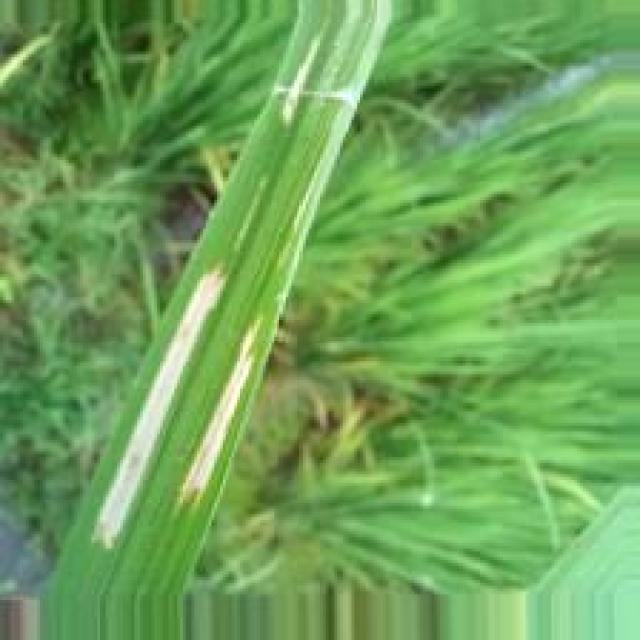Rice_Hispa: (80, 265, 229, 545), (187, 325, 256, 497)
